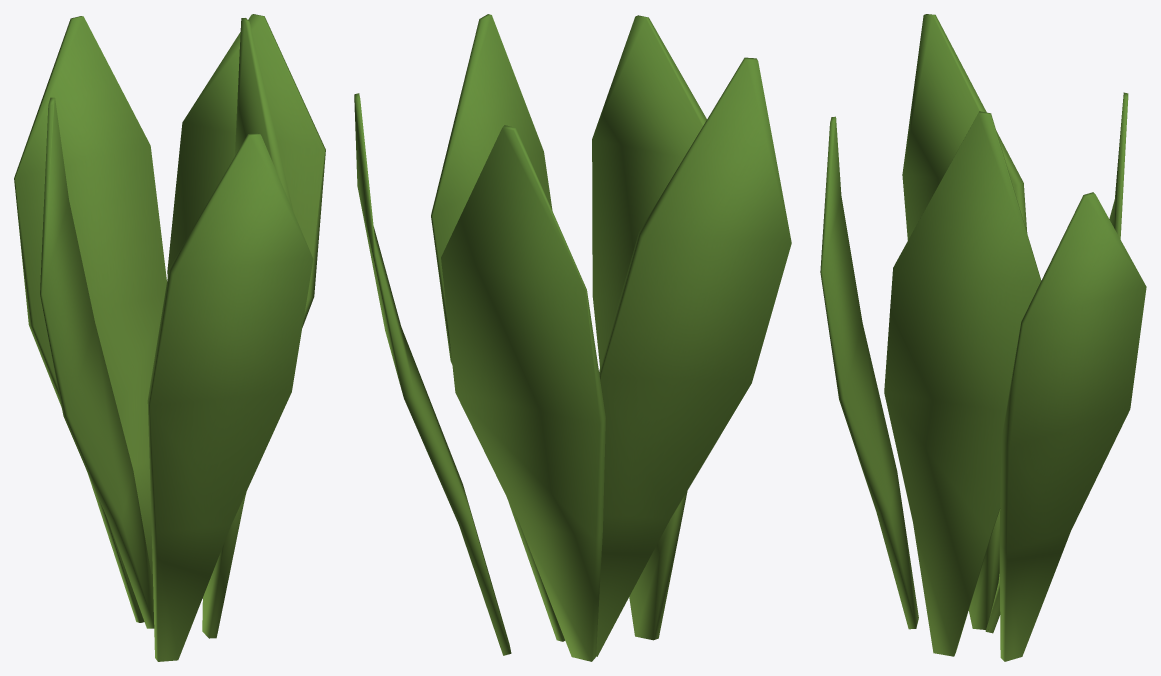
The model's file is EspadaDeSaoJorge.fbx.
3 renders of one model, left to right at view 1: azimuth 30°, elevation 25°; view 2: azimuth 150°, elevation 25°; view 3: azimuth 270°, elevation 25°, orthographic. The views are drawn at different scales.
Visible parts, largest first — view 1: Plane.008; view 2: Plane.008; view 3: Plane.008.
Part boxes in pixels (bbox=[...]): Plane.008: bbox=[14, 14, 325, 661]; Plane.008: bbox=[354, 14, 791, 661]; Plane.008: bbox=[820, 14, 1146, 661].
Size of the model in its own units: 87.46 by 141 by 73.47.
1 material, 1 textured.
